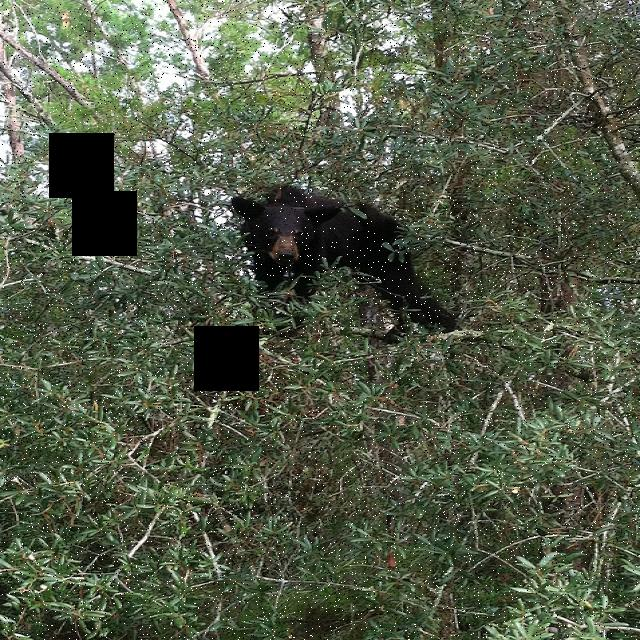Bear: (218, 178, 448, 333)
